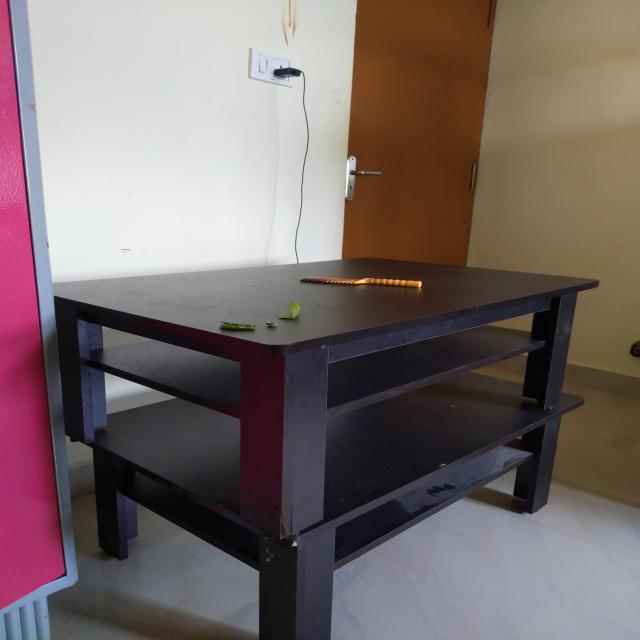table: (55, 262, 601, 640)
